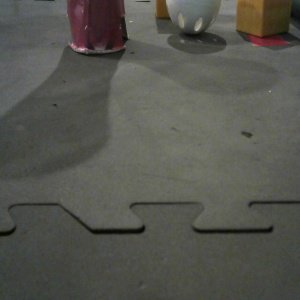right: (68, 1, 129, 55)
